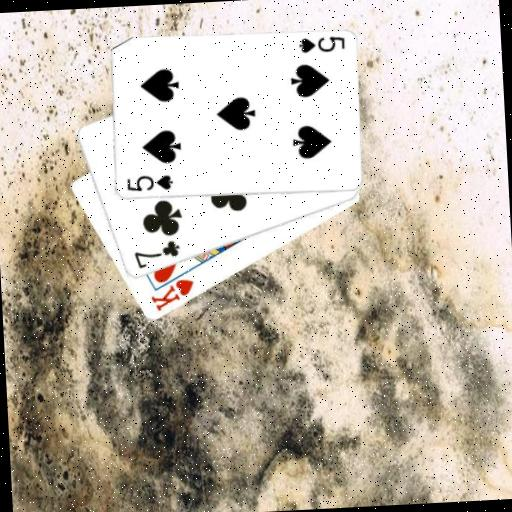5S: (294, 33, 346, 56), (123, 171, 174, 194)
7C: (130, 237, 182, 271)
KH: (146, 276, 196, 314)
